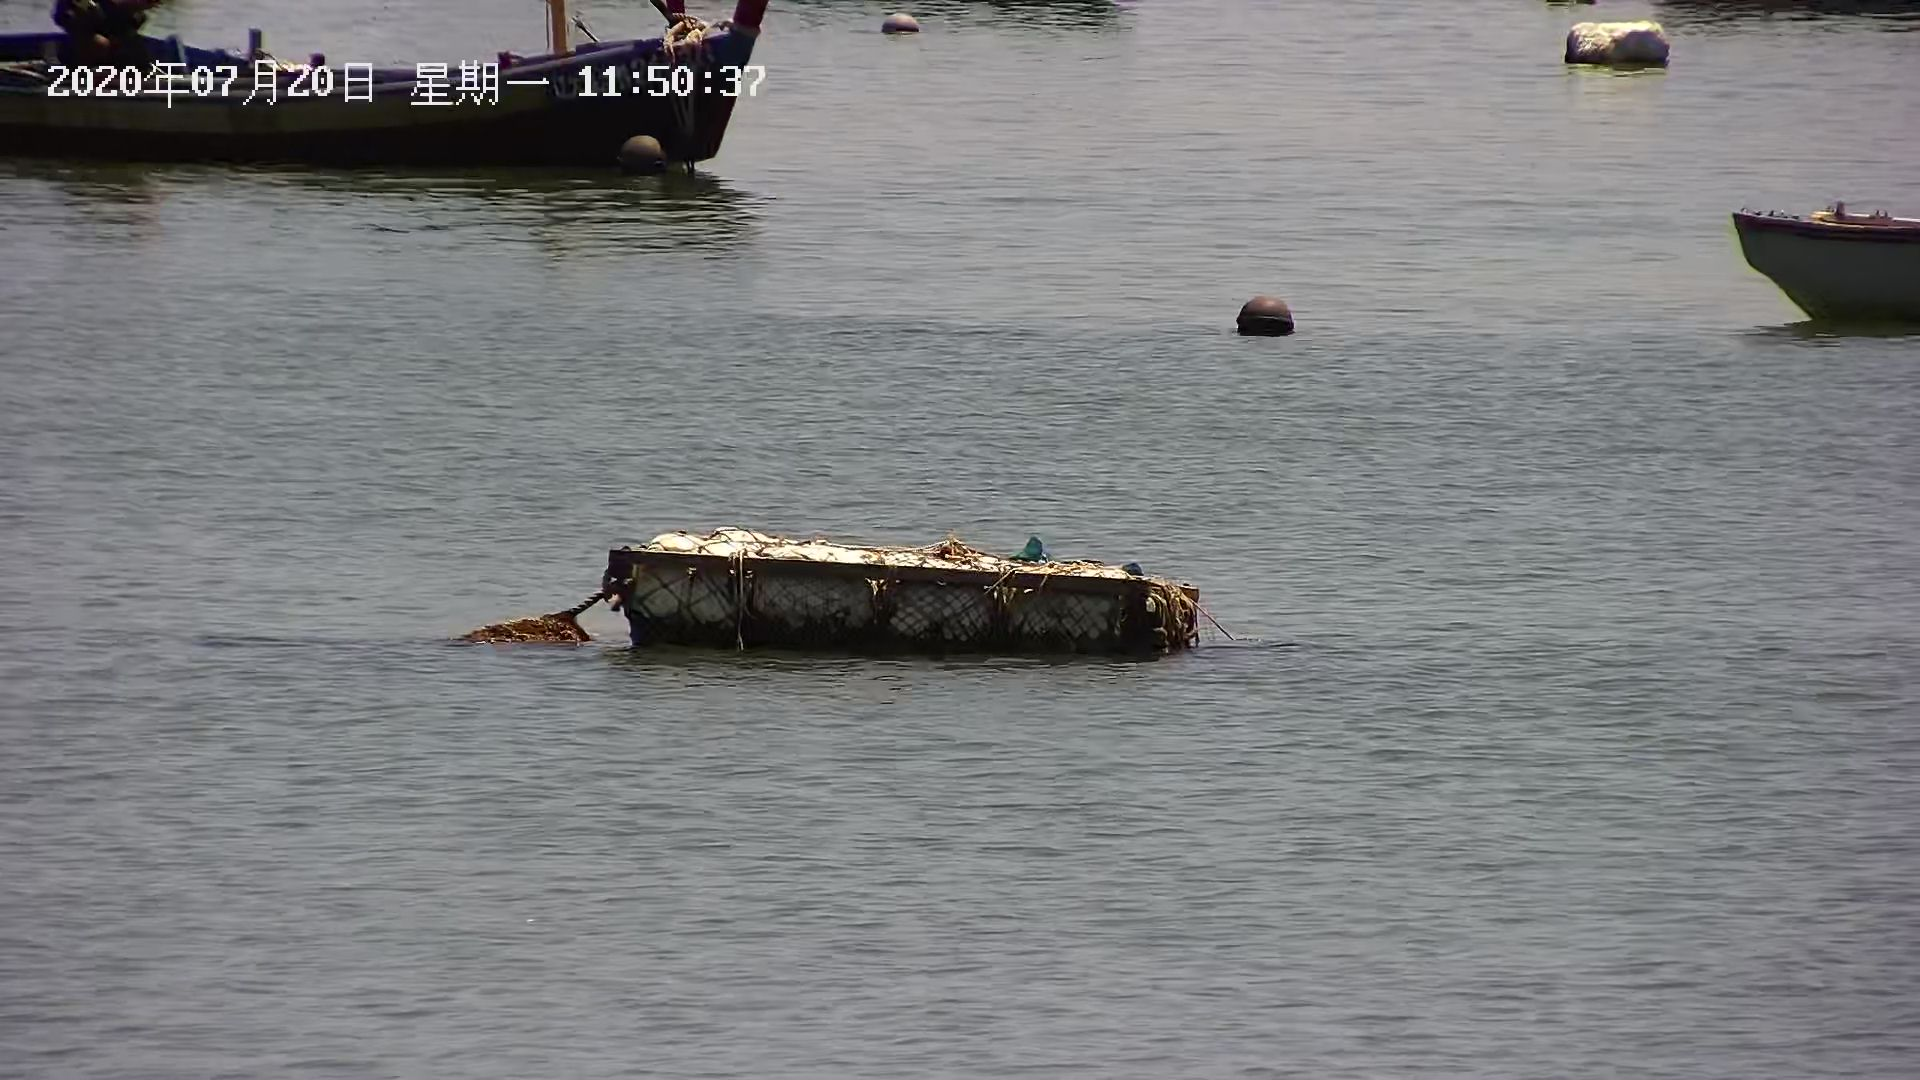ball: (1232, 291, 1299, 343)
boat: (1, 1, 766, 171), (1717, 191, 1920, 342)
platform: (477, 516, 1259, 663)
rubbish: (1549, 21, 1684, 75)
